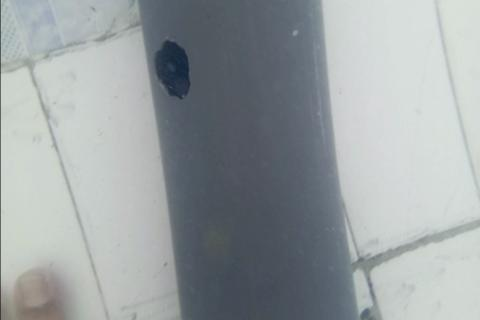kebocoran: (152, 38, 192, 100)
